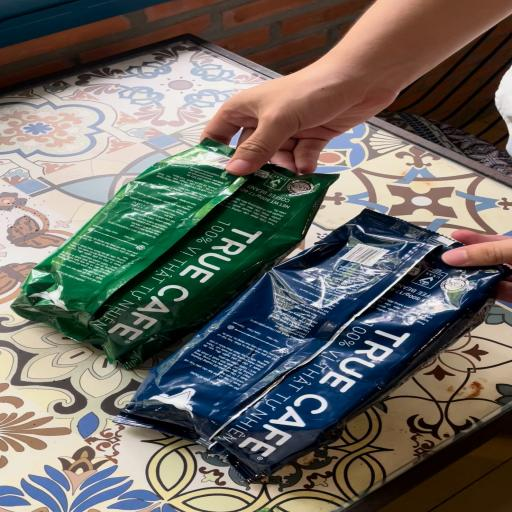cafe_hat: (117, 210, 509, 482)
cafe_xay: (12, 138, 338, 368), (16, 139, 241, 339)
